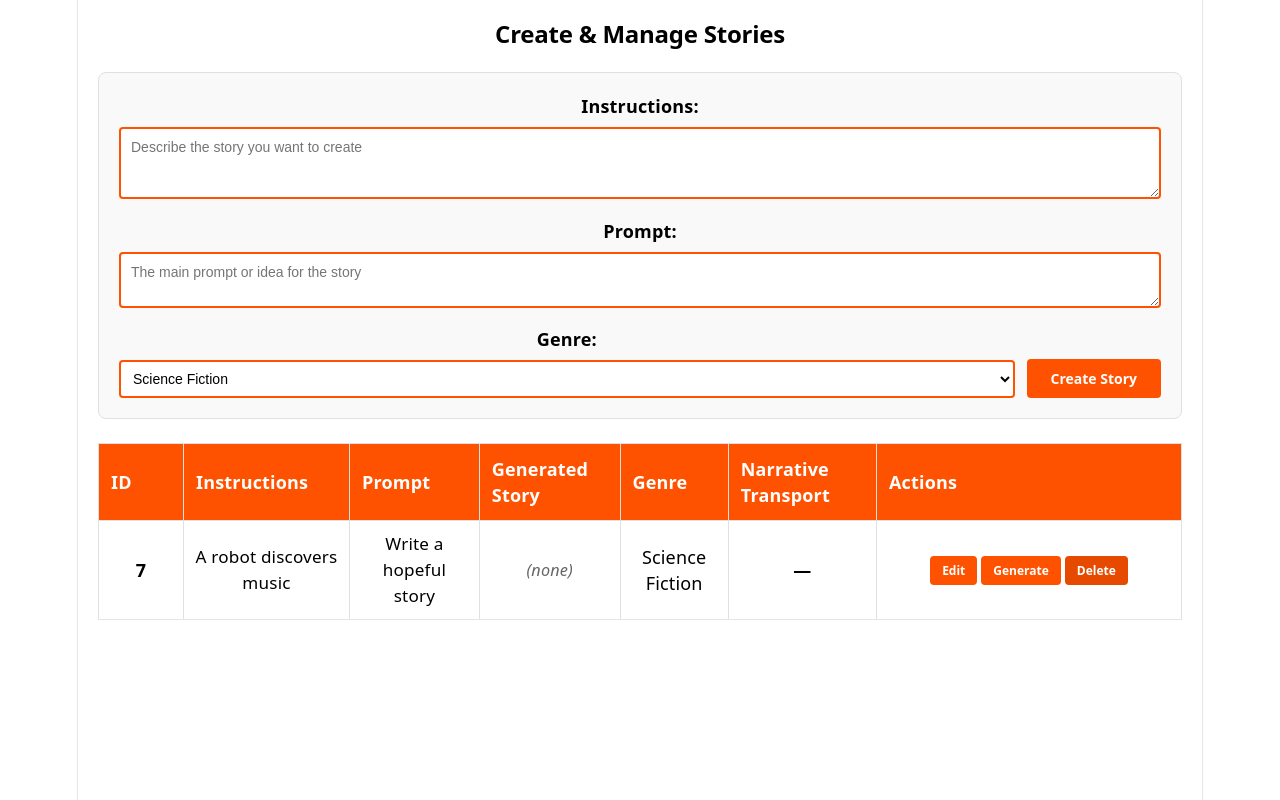
Stories › edits and deletes a story
Expected: the text "A robot discovers music" is shown, [194, 544, 339, 596]
Click the button "Edit" at (954, 571), box [930, 556, 977, 585]
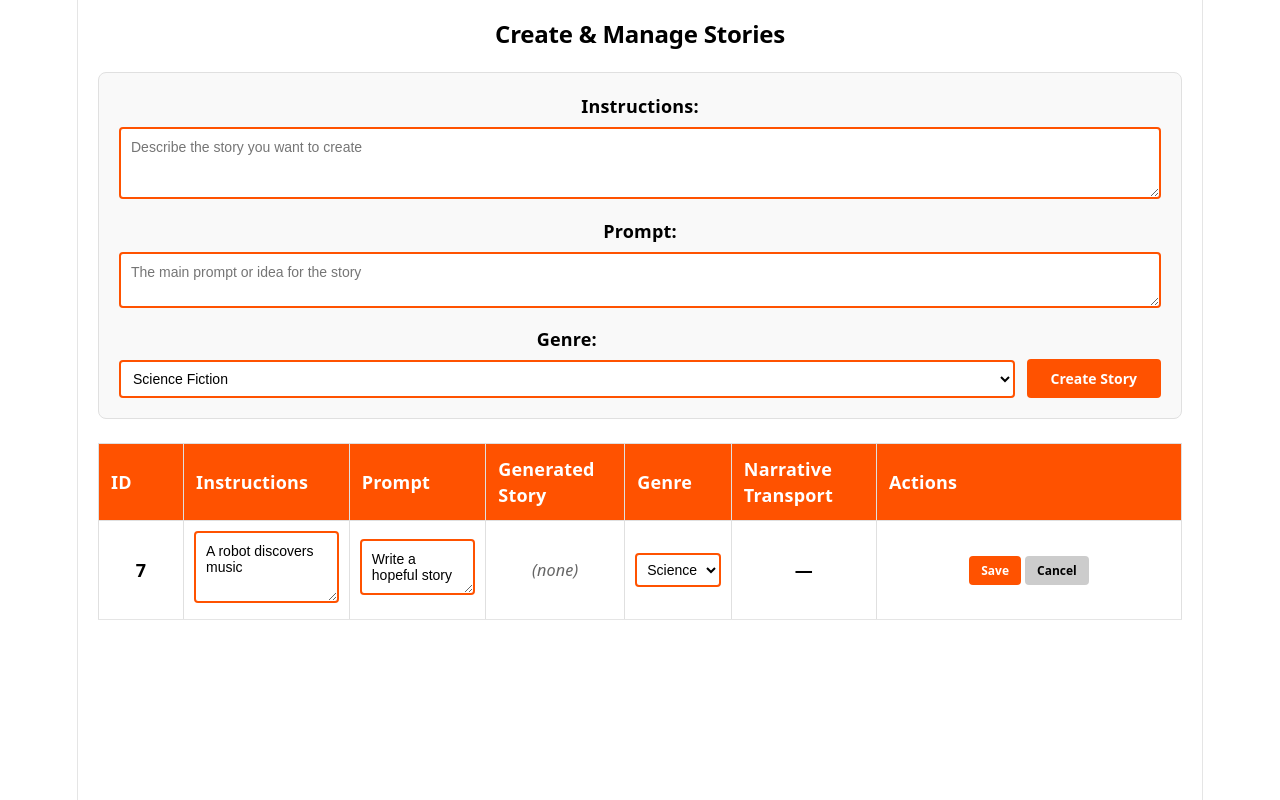
Replace the text in the 1st text box showing "A robot discovers music" with "Updated instructions" at (266, 567), box [194, 531, 339, 603]
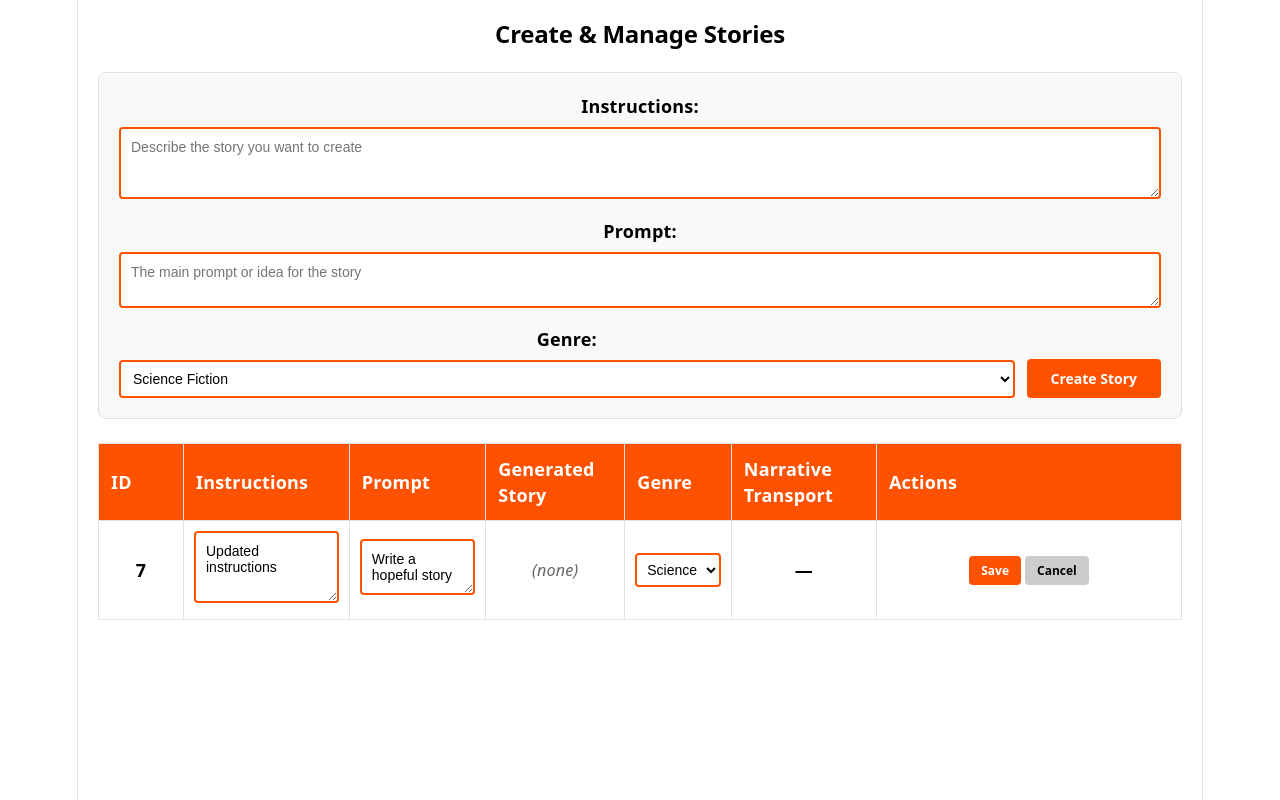
Click the button "Save" at (995, 570), box [969, 556, 1021, 585]
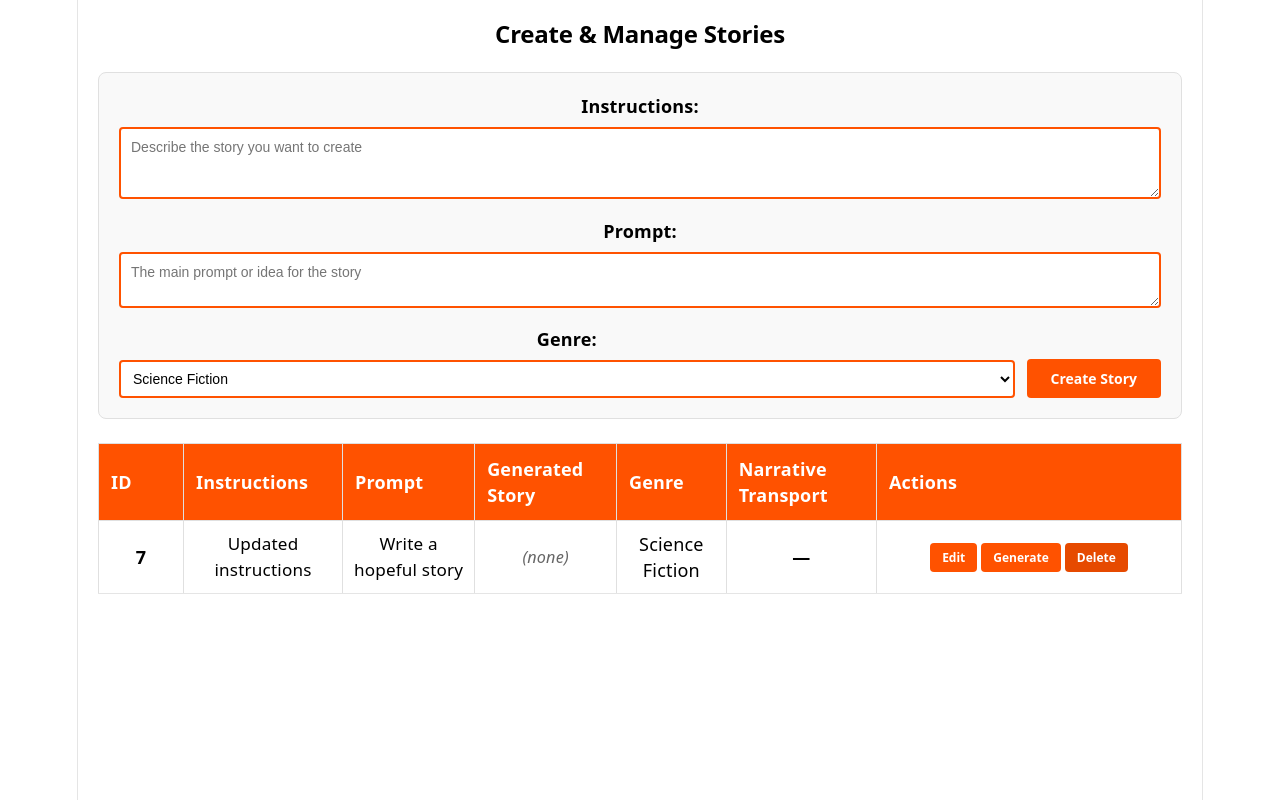
Now the button "Save" is gone
Now the text "Updated instructions" is shown, box [214, 532, 312, 581]
Click the button "Delete" at (1096, 558), box [1065, 543, 1128, 572]
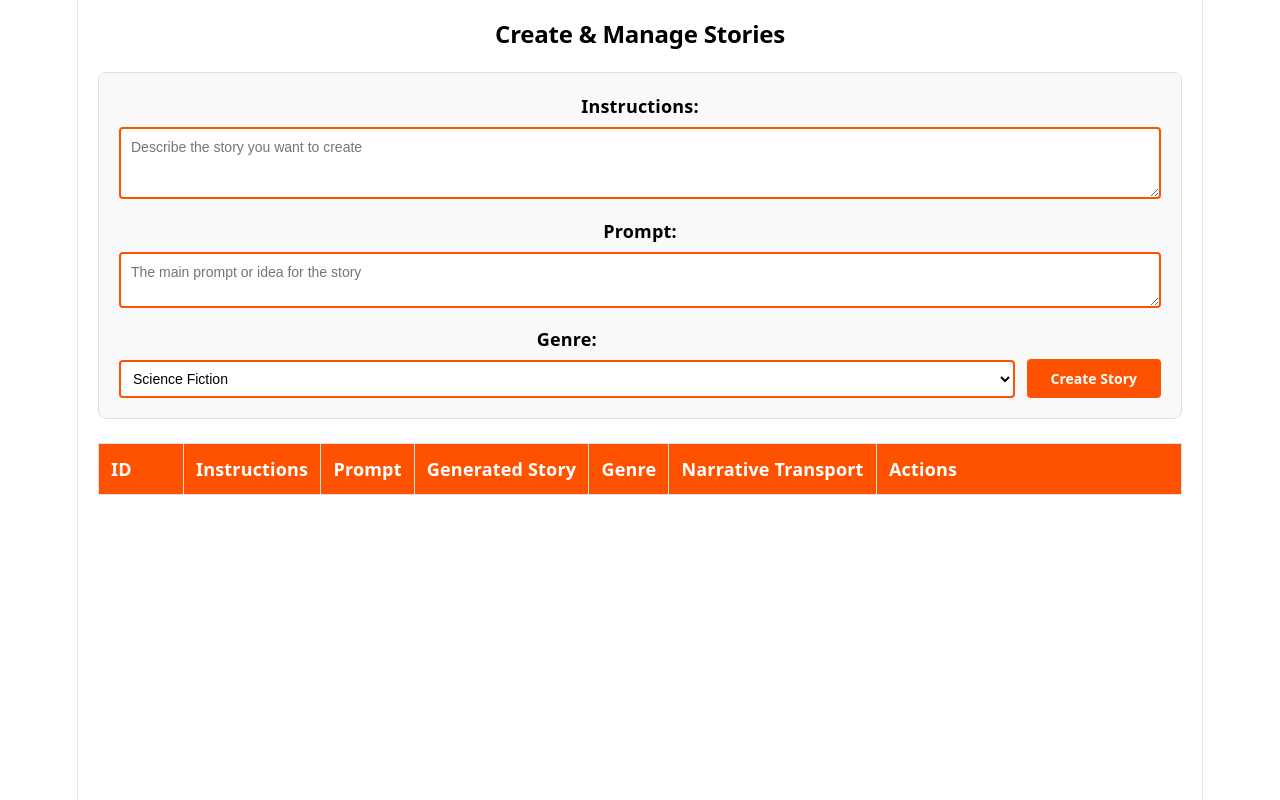
Now the text "Updated instructions" is gone
